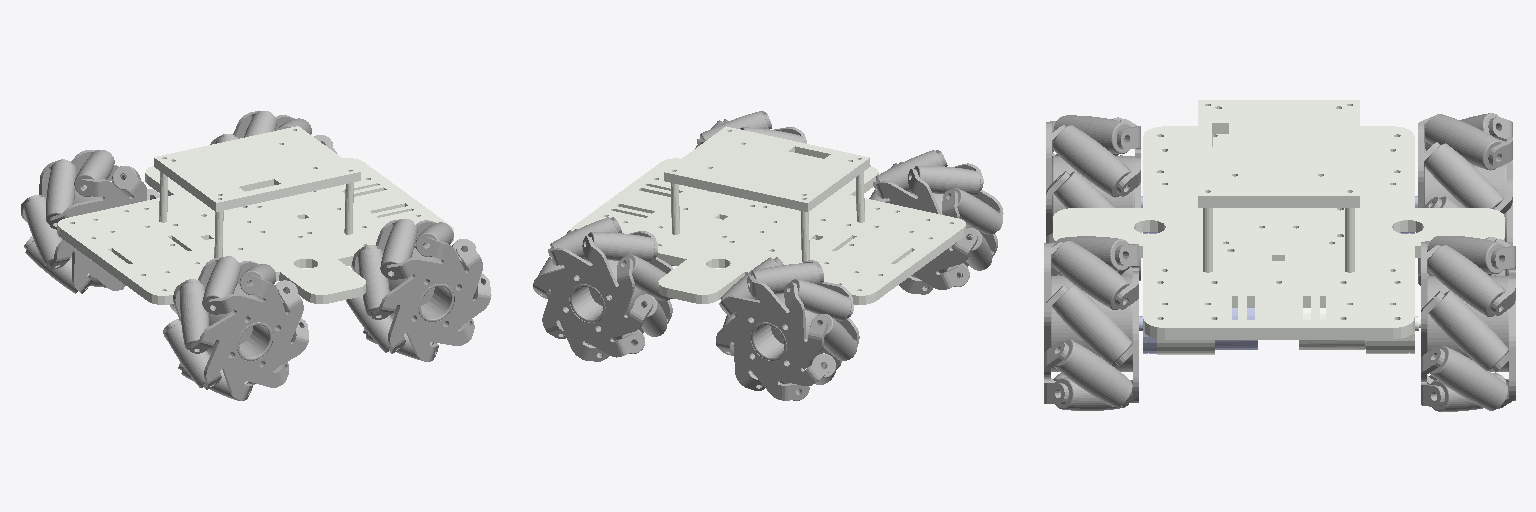
robot.urdf — testrobot:
<?xml version="1.0" encoding="utf-8"?>
<!-- This URDF was automatically created by SolidWorks to URDF Exporter! Originally created by [author] ([email redacted]) 
     Commit Version: 1.6.0-4-g7f85cfe  Build Version: 1.6.7995.38578
     For more information, please see http://wiki.ros.org/sw_urdf_exporter -->
<robot
  name="testrobot">
  <link
    name="base_link">
    <inertial>
      <origin
        xyz="0.149476250274979 0.071523909973143 0.0223286880955812"
        rpy="0 0 0" />
      <mass
        value="0.25597782791656" />
      <inertia
        ixx="0.00036732873915157"
        ixy="1.55566648582691E-05"
        ixz="-4.503055849755E-07"
        iyy="0.00095527475238888"
        iyz="1.14013193288372E-08"
        izz="0.000595041222210989" />
    </inertial>
    <visual>
      <origin
        xyz="0 0 0"
        rpy="0 0 0" />
      <geometry>
        <mesh
          filename="package://ros_foxy/meshes/mecanum/base_link.STL" />
      </geometry>
      <material
        name="">
        <color
          rgba="0.984313725490196 1 0.968627450980392 1" />
      </material>
    </visual>
    <collision>
      <origin
        xyz="0 0 0"
        rpy="0 0 0" />
      <geometry>
        <mesh
          filename="package://ros_foxy/meshes/mecanum/base_link.STL" />
      </geometry>
    </collision>
  </link>
  <link
    name="motor1">
    <inertial>
      <origin
        xyz="5.52672379583452E-07 0.0320433854457543 -1.81318322994839E-08"
        rpy="0 0 0" />
      <mass
        value="0.0280710275793574" />
      <inertia
        ixx="7.86188092937973E-06"
        ixy="-5.17869583215886E-10"
        ixz="-4.91816870040832E-13"
        iyy="2.39598996218101E-06"
        iyz="6.7116420162695E-12"
        izz="7.85090790739426E-06" />
    </inertial>
    <visual>
      <origin
        xyz="0 0 0"
        rpy="0 0 0" />
      <geometry>
        <mesh
          filename="package://ros_foxy/meshes/mecanum/motor1.STL" />
      </geometry>
      <material
        name="">
        <color
          rgba="0.792156862745098 0.819607843137255 0.933333333333333 1" />
      </material>
    </visual>
    <collision>
      <origin
        xyz="0 0 0"
        rpy="0 0 0" />
      <geometry>
        <mesh
          filename="package://ros_foxy/meshes/mecanum/motor1.STL" />
      </geometry>
    </collision>
  </link>
  <joint
    name="motor1_joint"
    type="fixed">
    <origin
      xyz="0.080964 -0.032483 0.052643"
      rpy="-3.1416 0 0" />
    <parent
      link="base_link" />
    <child
      link="motor1" />
    <axis
      xyz="0 1 0" />
  </joint>
  <link
    name="wheel1">
    <inertial>
      <origin
        xyz="-1.19558817915366E-05 3.26441016346921E-05 0.0217591841193318"
        rpy="0 0 0" />
      <mass
        value="0.132869959415391" />
      <inertia
        ixx="2.84297142529603E-05"
        ixy="1.75128850290476E-08"
        ixz="-6.55315395302375E-08"
        iyy="2.83549948054379E-05"
        iyz="-1.45971577375387E-08"
        izz="3.45616601084104E-05" />
    </inertial>
    <visual>
      <origin
        xyz="0 0 0"
        rpy="0 0 0" />
      <geometry>
        <mesh
          filename="package://ros_foxy/meshes/mecanum/wheel1.STL" />
      </geometry>
      <material
        name="">
        <color
          rgba="0.752941176470588 0.752941176470588 0.752941176470588 1" />
      </material>
    </visual>
    <collision>
      <origin
        xyz="0 0 0"
        rpy="0 0 0" />
      <geometry>
        <mesh
          filename="package://ros_foxy/meshes/mecanum/wheel1.STL" />
      </geometry>
    </collision>
  </link>
  <joint
    name="wheel1_joint"
    type="continuous">
    <origin
      xyz="0 0.057263 0"
      rpy="1.5708 -1.1023 3.1416" />
    <parent
      link="motor1" />
    <child
      link="wheel1" />
    <axis
      xyz="0 0 1" />
  </joint>
  <link
    name="motor2">
    <inertial>
      <origin
        xyz="5.52672380554897E-07 0.0125605349580857 -1.81318331946012E-08"
        rpy="0 0 0" />
      <mass
        value="0.0280710275793574" />
      <inertia
        ixx="7.86188092937972E-06"
        ixy="-5.17869583282002E-10"
        ixz="-4.91816870723822E-13"
        iyy="2.39598996218101E-06"
        iyz="6.71164201737927E-12"
        izz="7.85090790739425E-06" />
    </inertial>
    <visual>
      <origin
        xyz="0 0 0"
        rpy="0 0 0" />
      <geometry>
        <mesh
          filename="package://ros_foxy/meshes/mecanum/motor2.STL" />
      </geometry>
      <material
        name="">
        <color
          rgba="0.792156862745098 0.819607843137255 0.933333333333333 1" />
      </material>
    </visual>
    <collision>
      <origin
        xyz="0 0 0"
        rpy="0 0 0" />
      <geometry>
        <mesh
          filename="package://ros_foxy/meshes/mecanum/motor2.STL" />
      </geometry>
    </collision>
  </link>
  <joint
    name="motor2_joint"
    type="fixed">
    <origin
      xyz="0.080965 0 0.052643"
      rpy="3.1416 1.012 -3.1416" />
    <parent
      link="base_link" />
    <child
      link="motor2" />
    <axis
      xyz="0 1 0" />
  </joint>
  <link
    name="wheel2">
    <inertial>
      <origin
        xyz="-1.19558817895798E-05 3.26441016334431E-05 0.0217591841193305"
        rpy="0 0 0" />
      <mass
        value="0.13286995941539" />
      <inertia
        ixx="2.84297142529357E-05"
        ixy="1.75128850307639E-08"
        ixz="-6.55315395235346E-08"
        iyy="2.83549948054198E-05"
        iyz="-1.45971577536444E-08"
        izz="3.45616601083838E-05" />
    </inertial>
    <visual>
      <origin
        xyz="0 0 0"
        rpy="0 0 0" />
      <geometry>
        <mesh
          filename="package://ros_foxy/meshes/mecanum/wheel2.STL" />
      </geometry>
      <material
        name="">
        <color
          rgba="0.752941176470588 0.752941176470588 0.752941176470588 1" />
      </material>
    </visual>
    <collision>
      <origin
        xyz="0 0 0"
        rpy="0 0 0" />
      <geometry>
        <mesh
          filename="package://ros_foxy/meshes/mecanum/wheel2.STL" />
      </geometry>
    </collision>
  </link>
  <joint
    name="wheel2_joint"
    type="continuous">
    <origin
      xyz="0 0.038231 0"
      rpy="-1.5708 1.0485 0" />
    <parent
      link="motor2" />
    <child
      link="wheel2" />
    <axis
      xyz="0 0 1" />
  </joint>
  <link
    name="motor3">
    <inertial>
      <origin
        xyz="5.5267238078258E-07 0.0320433854457581 -1.81318349223858E-08"
        rpy="0 0 0" />
      <mass
        value="0.0280710275793574" />
      <inertia
        ixx="7.86188092937974E-06"
        ixy="-5.17869583223895E-10"
        ixz="-4.91816868924929E-13"
        iyy="2.39598996218101E-06"
        iyz="6.71164201879606E-12"
        izz="7.85090790739427E-06" />
    </inertial>
    <visual>
      <origin
        xyz="0 0 0"
        rpy="0 0 0" />
      <geometry>
        <mesh
          filename="package://ros_foxy/meshes/mecanum/motor3.STL" />
      </geometry>
      <material
        name="">
        <color
          rgba="0.792156862745098 0.819607843137255 0.933333333333333 1" />
      </material>
    </visual>
    <collision>
      <origin
        xyz="0 0 0"
        rpy="0 0 0" />
      <geometry>
        <mesh
          filename="package://ros_foxy/meshes/mecanum/motor3.STL" />
      </geometry>
    </collision>
  </link>
  <joint
    name="motor3_joint"
    type="fixed">
    <origin
      xyz="0.20592 -0.032483 0.049338"
      rpy="3.1416 1.3484 0" />
    <parent
      link="base_link" />
    <child
      link="motor3" />
    <axis
      xyz="0 1 0" />
  </joint>
  <link
    name="wheel3">
    <inertial>
      <origin
        xyz="-1.19558817891913E-05 3.26441016330614E-05 0.0217591841193315"
        rpy="0 0 0" />
      <mass
        value="0.132869959415391" />
      <inertia
        ixx="2.84297142529652E-05"
        ixy="1.75128850273959E-08"
        ixz="-6.55315395264663E-08"
        iyy="2.8354994805442E-05"
        iyz="-1.45971577583788E-08"
        izz="3.45616601084161E-05" />
    </inertial>
    <visual>
      <origin
        xyz="0 0 0"
        rpy="0 0 0" />
      <geometry>
        <mesh
          filename="package://ros_foxy/meshes/mecanum/wheel3.STL" />
      </geometry>
      <material
        name="">
        <color
          rgba="0.752941176470588 0.752941176470588 0.752941176470588 1" />
      </material>
    </visual>
    <collision>
      <origin
        xyz="0 0 0"
        rpy="0 0 0" />
      <geometry>
        <mesh
          filename="package://ros_foxy/meshes/mecanum/wheel3.STL" />
      </geometry>
    </collision>
  </link>
  <joint
    name="wheel3_joint"
    type="continuous">
    <origin
      xyz="0 0.058016 0"
      rpy="1.5708 0.59639 3.1416" />
    <parent
      link="motor3" />
    <child
      link="wheel3" />
    <axis
      xyz="0 0 1" />
  </joint>
  <link
    name="motor4">
    <inertial>
      <origin
        xyz="5.52672380318975E-07 0.0290433853624295 -1.8131832812962E-08"
        rpy="0 0 0" />
      <mass
        value="0.0280710275793575" />
      <inertia
        ixx="7.86188092937976E-06"
        ixy="-5.17869583233703E-10"
        ixz="-4.91816869663825E-13"
        iyy="2.39598996218102E-06"
        iyz="6.71164201340817E-12"
        izz="7.85090790739429E-06" />
    </inertial>
    <visual>
      <origin
        xyz="0 0 0"
        rpy="0 0 0" />
      <geometry>
        <mesh
          filename="package://ros_foxy/meshes/mecanum/motor4.STL" />
      </geometry>
      <material
        name="">
        <color
          rgba="0.792156862745098 0.819607843137255 0.933333333333333 1" />
      </material>
    </visual>
    <collision>
      <origin
        xyz="0 0 0"
        rpy="0 0 0" />
      <geometry>
        <mesh
          filename="package://ros_foxy/meshes/mecanum/motor4.STL" />
      </geometry>
    </collision>
  </link>
  <joint
    name="motor4_joint"
    type="fixed">
    <origin
      xyz="0.20592 -0.016483 0.049338"
      rpy="0 1.3764 0" />
    <parent
      link="base_link" />
    <child
      link="motor4" />
    <axis
      xyz="0 0 0" />
  </joint>
  <link
    name="wheel4">
    <inertial>
      <origin
        xyz="-1.19558817901488E-05 3.26441016330059E-05 0.0217591841193154"
        rpy="0 0 0" />
      <mass
        value="0.132869959415391" />
      <inertia
        ixx="2.84297142529887E-05"
        ixy="1.75128850267208E-08"
        ixz="-6.55315395274601E-08"
        iyy="2.83549948054589E-05"
        iyz="-1.45971577507848E-08"
        izz="3.45616601084392E-05" />
    </inertial>
    <visual>
      <origin
        xyz="0 0 0"
        rpy="0 0 0" />
      <geometry>
        <mesh
          filename="package://ros_foxy/meshes/mecanum/wheel4.STL" />
      </geometry>
      <material
        name="">
        <color
          rgba="0.752941176470588 0.752941176470588 0.752941176470588 1" />
      </material>
    </visual>
    <collision>
      <origin
        xyz="0 0 0"
        rpy="0 0 0" />
      <geometry>
        <mesh
          filename="package://ros_foxy/meshes/mecanum/wheel4.STL" />
      </geometry>
    </collision>
  </link>
  <joint
    name="wheel4_joint"
    type="continuous">
    <origin
      xyz="0 0.056005 0"
      rpy="-1.5708 1.4447 0" />
    <parent
      link="motor4" />
    <child
      link="wheel4" />
    <axis
      xyz="0 0 1" />
  </joint>
  <link
    name="lidar_link">
    <inertial>
      <origin
        xyz="-0.0784927583516922 0.744427353170623 0.133450456489652"
        rpy="0 0 0" />
      <mass
        value="0.0730823990338202" />
      <inertia
        ixx="1.95800860912246E-05"
        ixy="-4.28358128257305E-07"
        ixz="1.04044150679048E-07"
        iyy="4.14183997896836E-05"
        iyz="-9.38690930339323E-09"
        izz="2.41258046341559E-05" />
    </inertial>
    <visual>
      <origin
        xyz="0 0 0"
        rpy="0 0 0" />
      <geometry>
        <mesh
          filename="package://ros_foxy/meshes/mecanum/lidar_link.STL" />
      </geometry>
      <material
        name="">
        <color
          rgba="0.752941176470588 0.752941176470588 0.752941176470588 1" />
      </material>
    </visual>
    <collision>
      <origin
        xyz="0 0 0"
        rpy="0 0 0" />
      <geometry>
        <mesh
          filename="package://ros_foxy/meshes/mecanum/lidar_link.STL" />
      </geometry>
    </collision>
  </link>
  <joint
    name="lidar_joint"
    type="fixed">
    <origin
      xyz="0.20535 0.10435 -0.61057"
      rpy="1.5702 0.026433 -0.021425" />
    <parent
      link="base_link" />
    <child
      link="lidar_link" />
    <axis
      xyz="0 0 0" />
  </joint>
</robot>

--- What the picture shows (computed from the rendered views, not written in the file) ---
Views: 3 orthographic renders of the robot side by side, from view 1: azimuth 30°, elevation 25°; view 2: azimuth 150°, elevation 25°; view 3: azimuth 270°, elevation 25°.
Robot: testrobot — 10 links, 9 joints (4 continuous, 5 fixed); root link base_link; default pose: every joint at zero.
Visible links, largest first — view 1: base_link, wheel1, wheel3, wheel2, wheel4; view 2: base_link, wheel2, wheel4, wheel1, wheel3; view 3: base_link, wheel4, wheel3, wheel2, wheel1, motor3.
Link boxes in pixels (box(x1,y1,x2,y2)): base_link: box(57, 126, 453, 314); wheel1: box(163, 256, 308, 400); wheel3: box(346, 219, 491, 361); wheel2: box(21, 150, 159, 293); wheel4: box(210, 111, 336, 153); base_link: box(571, 126, 965, 304); wheel2: box(716, 257, 859, 400); wheel4: box(533, 217, 672, 361); wheel1: box(869, 150, 1003, 294); wheel3: box(695, 111, 806, 148); base_link: box(1053, 100, 1504, 354); wheel4: box(1421, 236, 1515, 411); wheel3: box(1044, 236, 1138, 410); wheel2: box(1418, 113, 1512, 285); wheel1: box(1046, 115, 1140, 280); motor3: box(1139, 308, 1257, 353).
Size in the robot's own frame: 0.2101 by 0.2189 by 0.1051 metres.
Meshes: 10 distinct files referenced, 9 mesh visuals loaded (9 binary STL); not drawn: 1 (reference not matched to a file when rendering).